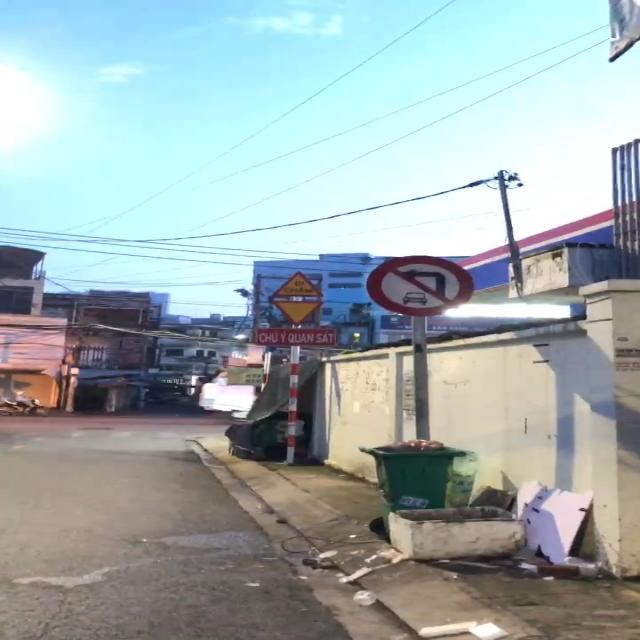Bien bao di cham: (268, 266, 323, 298)
Bien bao giao nhau voi duong uu tien: (263, 297, 334, 329)
